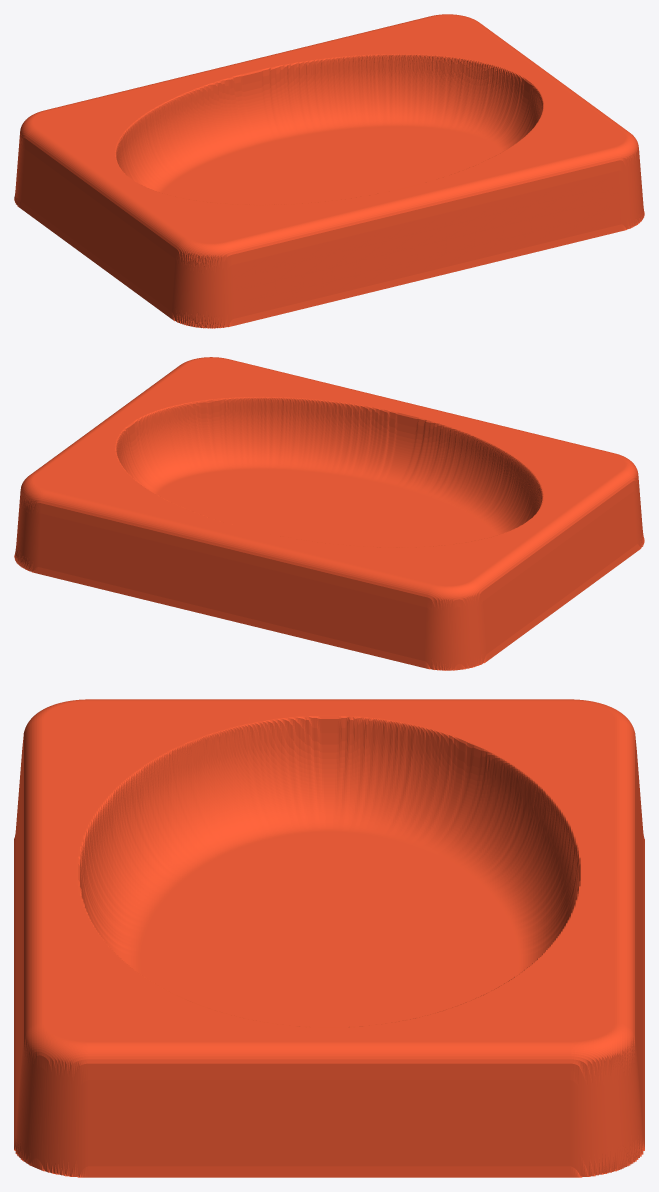
File: mold.glb
The picture shows the model from 3 angles, top to bottom: view 1: azimuth 30°, elevation 25°; view 2: azimuth 150°, elevation 25°; view 3: azimuth 270°, elevation 25°; orthographic projection. The views are drawn at different scales.
Visible parts, largest first — view 1: geometry_0; view 2: geometry_0; view 3: geometry_0.
Part boxes in pixels (<box>): geometry_0: <box>14,14,644,328</box>; geometry_0: <box>14,357,644,670</box>; geometry_0: <box>14,699,644,1177</box>.
Size of the model in its own units: 0.105 by 0.0165 by 0.0766.
